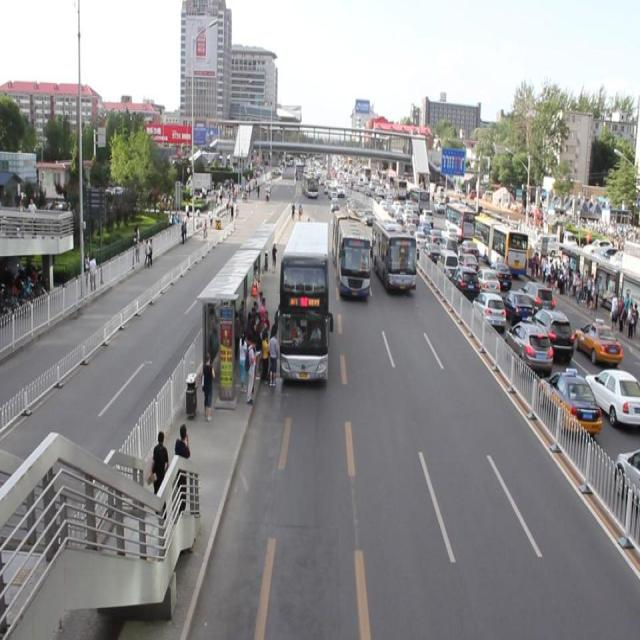car: (362, 208, 375, 226), (346, 199, 356, 216), (330, 195, 338, 210)
van: (280, 220, 328, 383), (333, 212, 368, 300), (372, 219, 414, 292)
